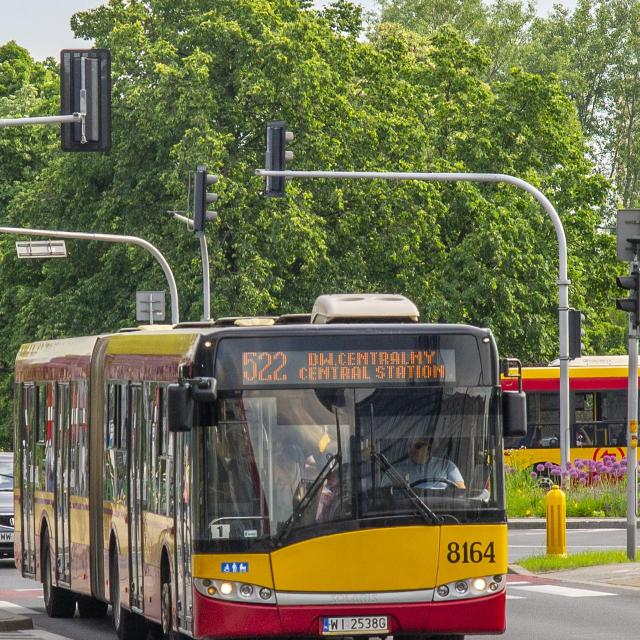Bus: (10, 296, 525, 640)
